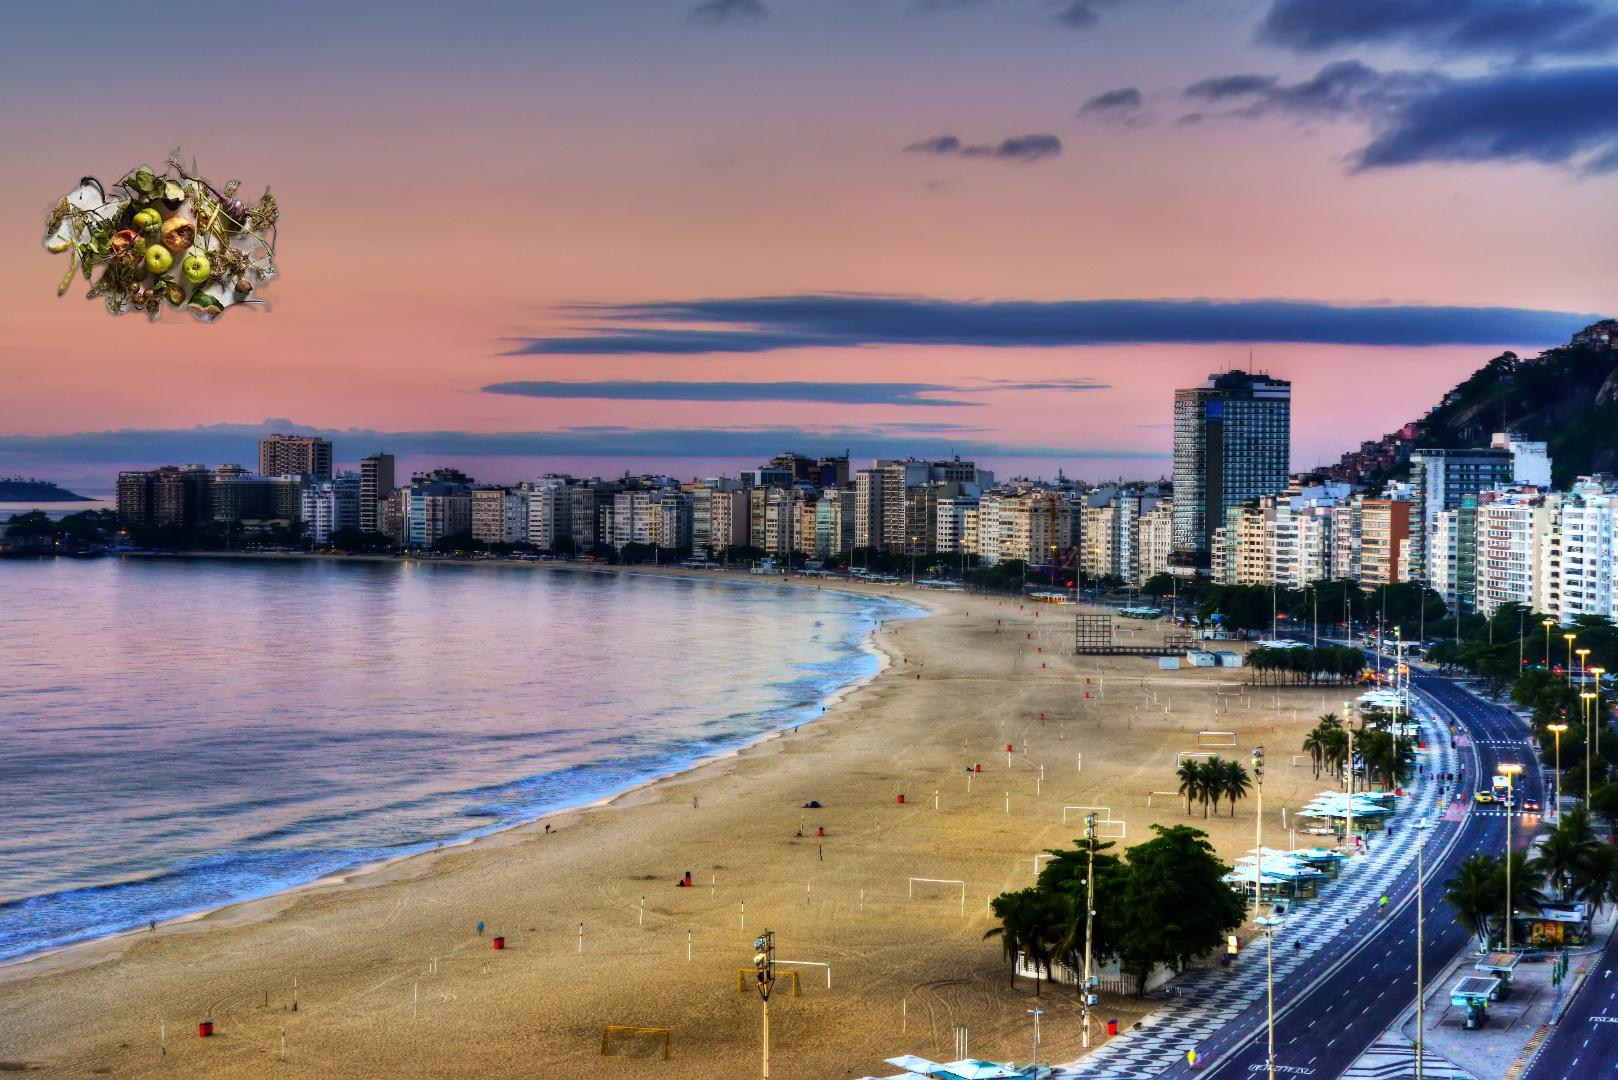biological: (39, 145, 306, 324)
